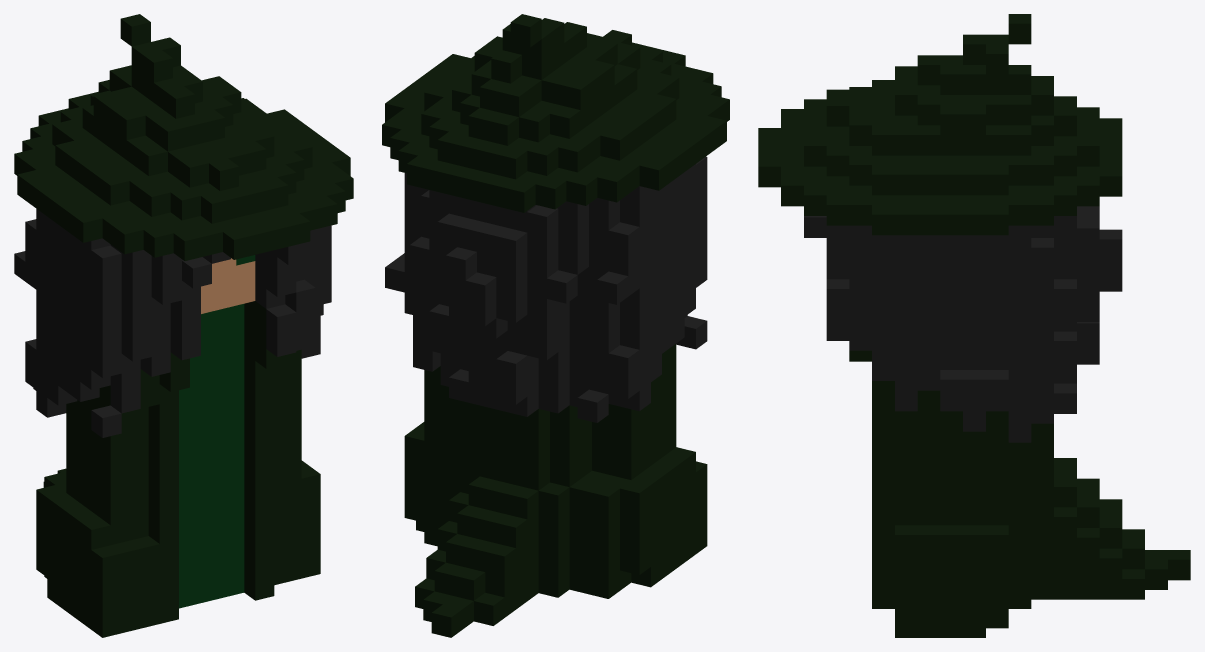
File: Bruxa 03 - Andando-05.obj
3 renders of one model, left to right at view 1: azimuth 30°, elevation 25°; view 2: azimuth 150°, elevation 25°; view 3: azimuth 270°, elevation 25°, orthographic. The views are drawn at different scales.
Size of the model in its own units: 14 by 27 by 19.
1 material, 1 textured.
